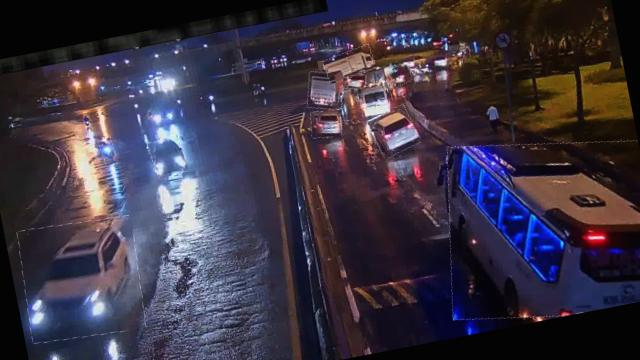Bike: (99, 138, 118, 166)
Bus: (428, 117, 640, 335), (356, 82, 394, 118)
Car: (13, 212, 150, 348), (368, 104, 420, 158), (148, 134, 188, 180), (308, 107, 344, 140), (385, 62, 414, 88), (340, 66, 369, 91)
Truck: (302, 67, 348, 114), (322, 45, 377, 82)
